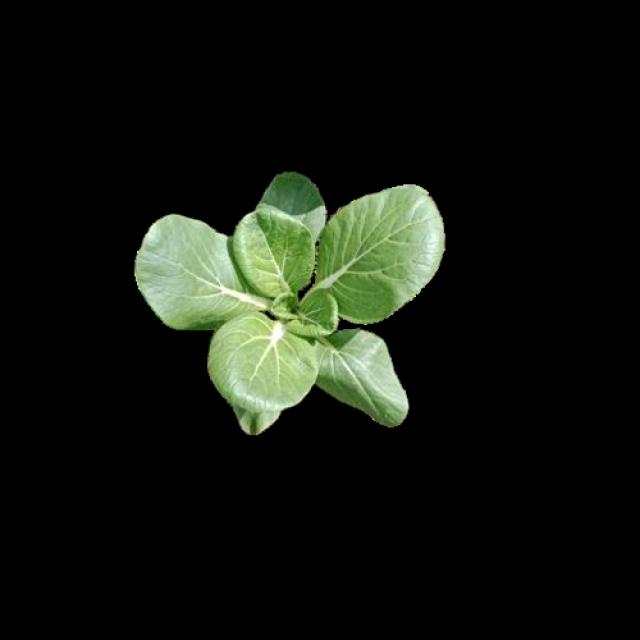healthy: (134, 168, 443, 432)
not-mature: (137, 170, 445, 435)
